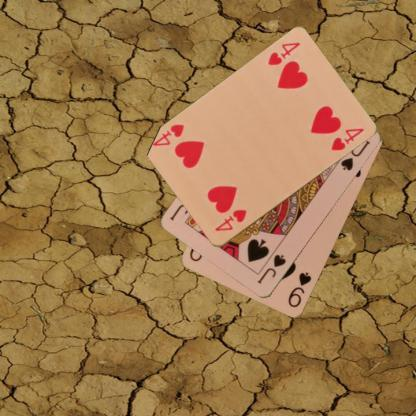4h: (265, 40, 302, 67), (212, 207, 248, 233)
9s: (286, 269, 313, 309)
Js: (254, 252, 288, 285)
